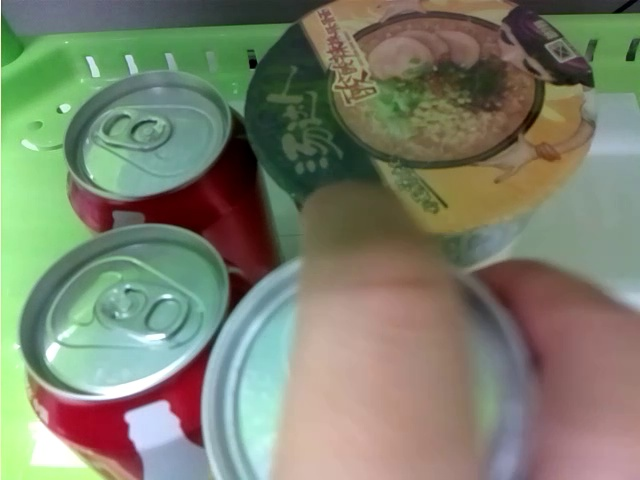cocacola: (203, 258, 542, 480), (11, 227, 227, 480), (62, 70, 281, 280)
hand: (294, 184, 640, 480)
noodles: (246, 2, 603, 261)
